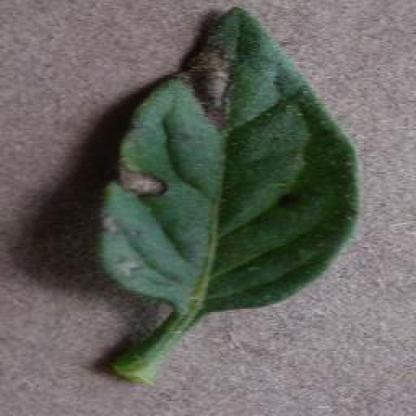Tomato_Blight: (93, 10, 358, 314)
